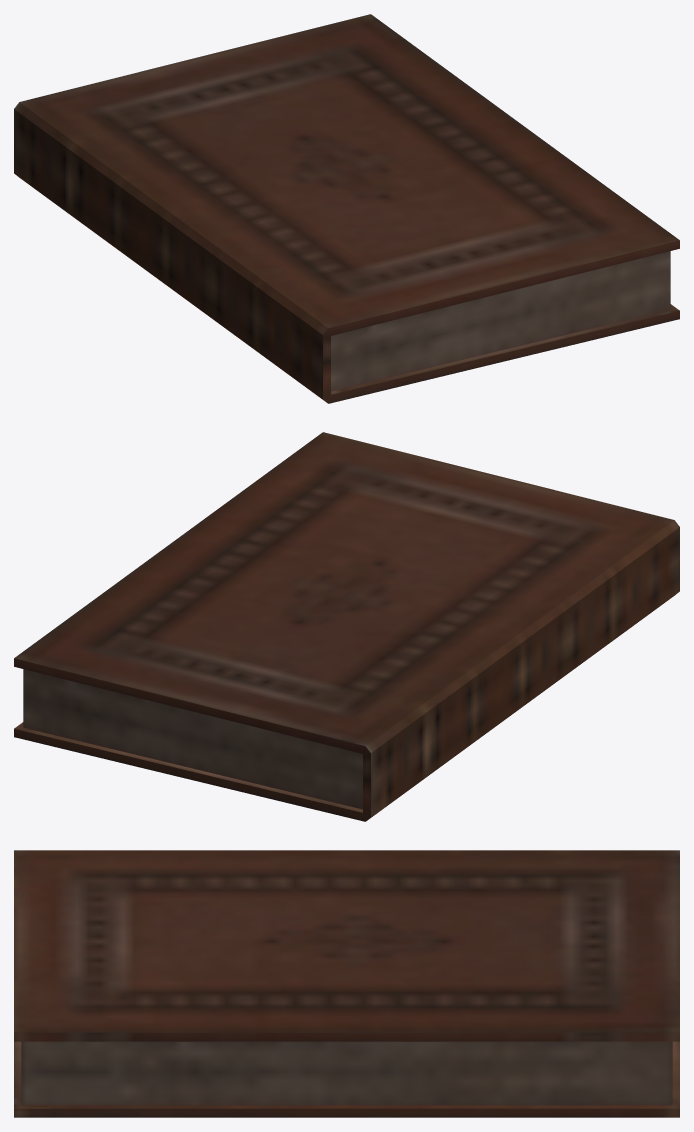
File: book_mp_6.fbx
3 renders of one model, top to bottom at view 1: azimuth 30°, elevation 25°; view 2: azimuth 150°, elevation 25°; view 3: azimuth 270°, elevation 25°, orthographic. The views are drawn at different scales.
Visible parts, largest first — view 1: book_mp_6; view 2: book_mp_6; view 3: book_mp_6.
Boxes of the visible parts, x1,y1,x2,y2 form: book_mp_6: (14,14,679,403); book_mp_6: (14,432,679,821); book_mp_6: (14,850,679,1117).
Bounding box in the file's own units: 0.18 × 0.038 × 0.27.
Materials: 1 (1 with a texture image).
